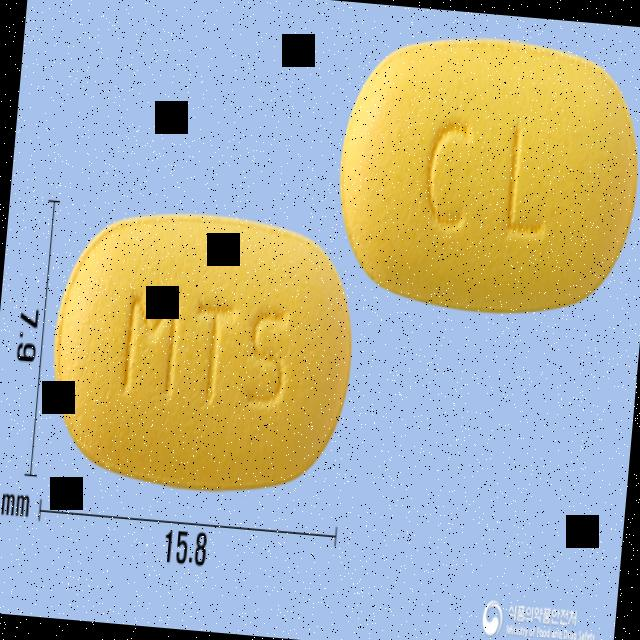Clarimacin - 500mg: (40, 198, 366, 510), (330, 28, 640, 322)
